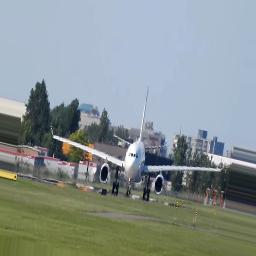Airplane: (48, 85, 222, 203)
